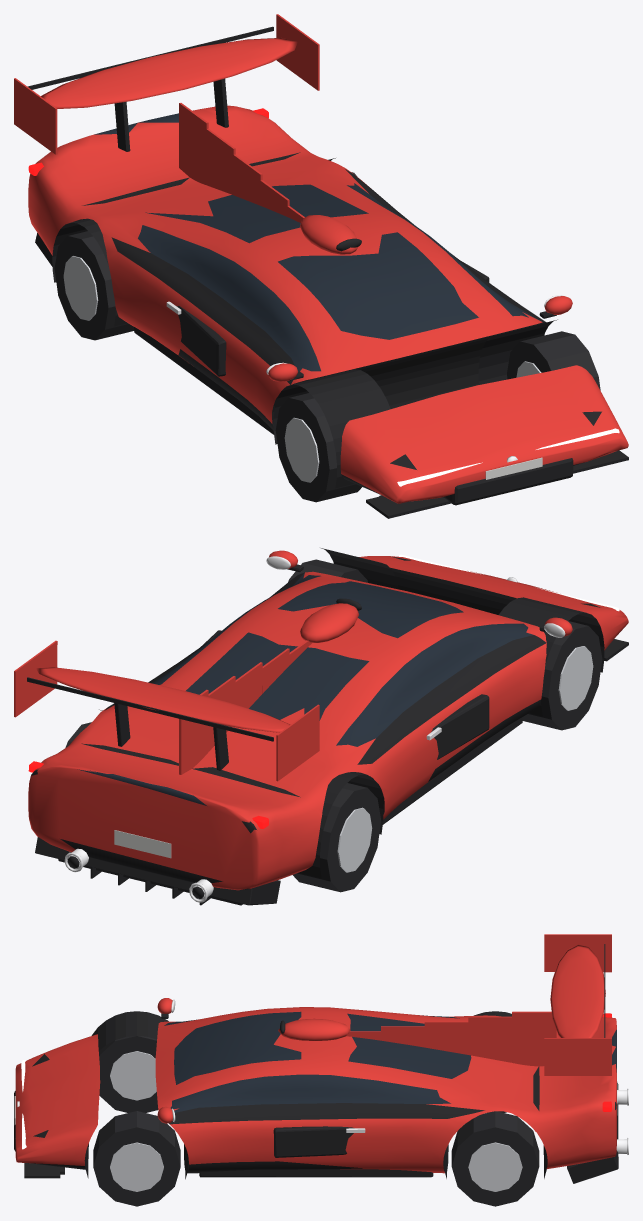
Rendered from vortex_lod.glb.
3 renders of one model, top to bottom at view 1: azimuth 30°, elevation 25°; view 2: azimuth 150°, elevation 25°; view 3: azimuth 270°, elevation 25°, orthographic. The views are drawn at different scales.
Visible parts, largest first — view 1: body, wheel_fr, wheel_rr, wheel_fl; view 2: body, wheel_rr, wheel_fr, wheel_fl; view 3: body, wheel_rl, wheel_fl, wheel_fr.
Boxes of the visible parts, x1=… form: body: x1=14, y1=14, x2=628, y2=518; wheel_fr: x1=275, y1=393, x2=361, y2=502; wheel_rr: x1=54, y1=231, x2=133, y2=340; wheel_fl: x1=507, y1=331, x2=600, y2=390; body: x1=14, y1=548, x2=628, y2=905; wheel_rr: x1=293, y1=783, x2=380, y2=892; wheel_fr: x1=522, y1=621, x2=602, y2=730; wheel_fl: x1=288, y1=559, x2=367, y2=582; body: x1=14, y1=934, x2=628, y2=1183; wheel_rl: x1=451, y1=1111, x2=539, y2=1206; wheel_fl: x1=93, y1=1111, x2=180, y2=1206; wheel_fr: x1=99, y1=1036, x2=158, y2=1112.
Bounding box in the file's own units: 2.33 × 1.51 × 5.06.
